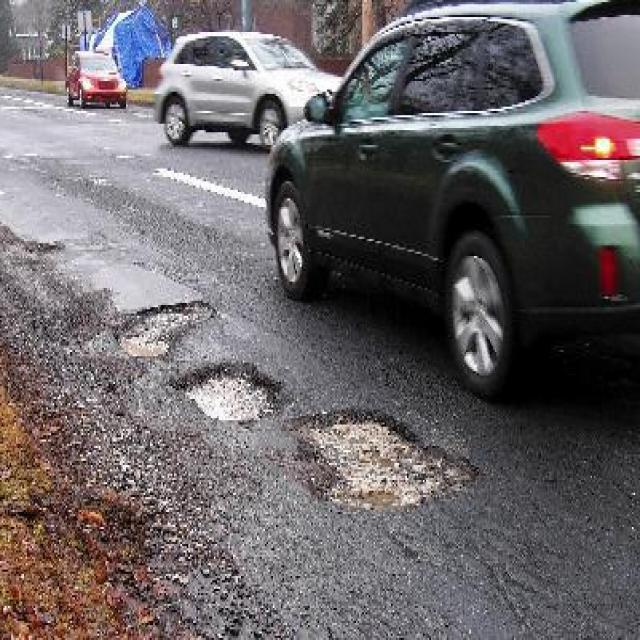pothole: (286, 401, 478, 516), (174, 356, 288, 427), (111, 294, 218, 360)
